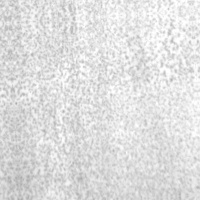pitted_surface: (9, 11, 199, 199)
